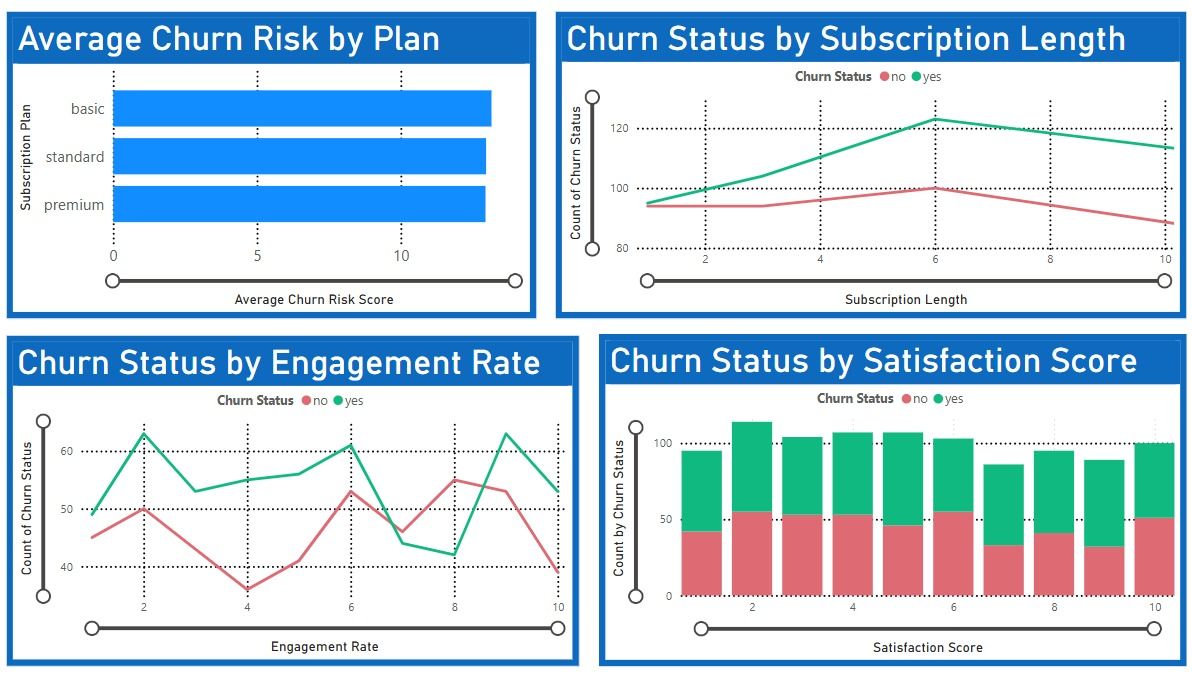

This screenshot's page, from the dashboard's own definition file:
{"tool":"powerbi","page":{"name":"Churn Insights","canvas":[1280,720],"ordinal":1},"visuals":[{"type":"clusteredBarChart","title":"Average Churn Risk by Plan","fields":{"Category":["complete_sql_dataset 1.Subscription Plan"],"Y":["Avg(complete_sql_dataset 1.Churn Risk Score)"]},"box":[17.4,20.9,555.7,322.3],"z":0},{"type":"columnChart","title":"Churn Status by Satisfaction Score","fields":{"Category":["complete_sql_dataset 1.Satisfaction Score"],"Y":["CountNonNull(complete_sql_dataset 1.Churn Status)"],"Series":["complete_sql_dataset 1.Churn Status"]},"box":[639.3,358.8,616.7,348.4],"z":1000},{"type":"lineChart","title":"Churn Status by Engagement Rate","fields":{"Category":["complete_sql_dataset 1.Engagement Rate"],"Y":["CountNonNull(complete_sql_dataset 1.Churn Status)"],"Series":["complete_sql_dataset 1.Churn Status"]},"box":[17.4,360.6,601,346.6],"z":2000},{"type":"lineChart","title":"Churn Status by Subscription Length","fields":{"Y":["CountNonNull(complete_sql_dataset 1.Churn Status)"],"Series":["complete_sql_dataset 1.Churn Status"],"Category":["complete_sql_dataset 1.Subscription Length"]},"box":[594,20.9,661.9,322.3],"z":3000}]}

Visuals, with their boxes in screenshot pixels (x1, y1, x2, y2), scaled from the page's 1280x720 canvas onto the 1192x675 screenshot:
"Average Churn Risk by Plan" clusteredBarChart: [left=16, top=20, right=534, bottom=322]
"Churn Status by Satisfaction Score" columnChart: [left=595, top=336, right=1170, bottom=663]
"Churn Status by Engagement Rate" lineChart: [left=16, top=338, right=576, bottom=663]
"Churn Status by Subscription Length" lineChart: [left=553, top=20, right=1170, bottom=322]
